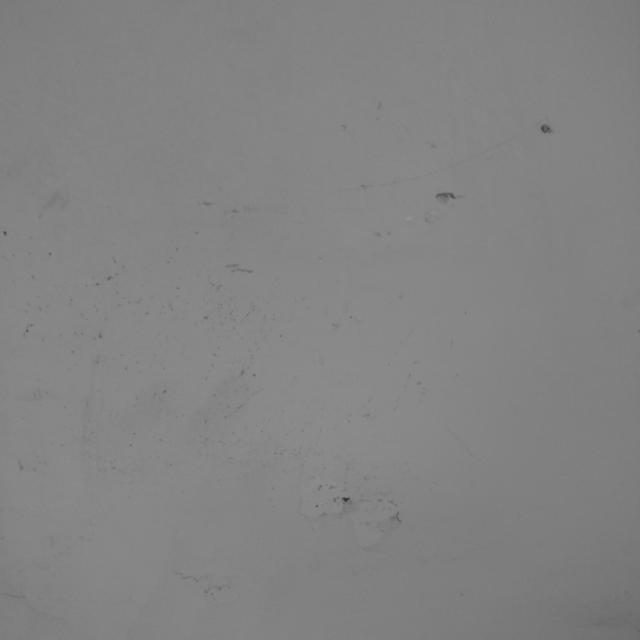rough and patchy surface: (10, 233, 305, 477), (294, 466, 426, 561), (162, 558, 252, 607), (403, 170, 478, 228), (512, 102, 562, 170)
